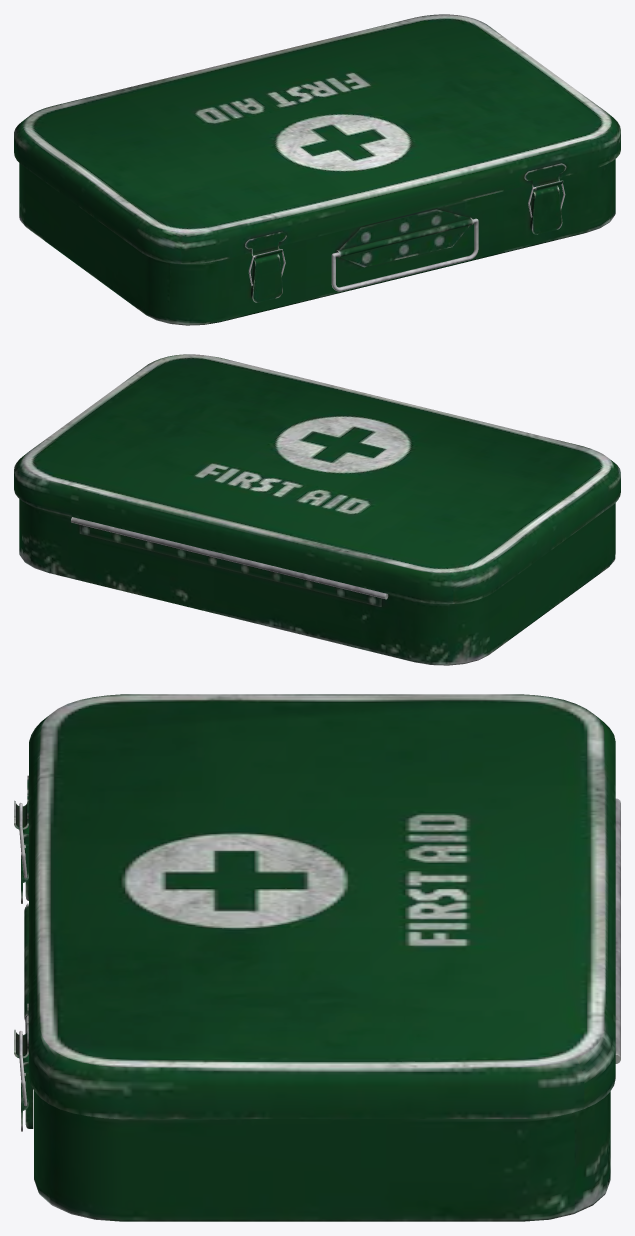
The model's file is medical_box.glb.
3 views of the same model, one above another, from view 1: azimuth 30°, elevation 25°; view 2: azimuth 150°, elevation 25°; view 3: azimuth 270°, elevation 25° (orthographic). The views are drawn at different scales.
Visible parts, largest first — view 1: medical_box_latch; view 2: medical_box_latch; view 3: medical_box_latch.
Part boxes in pixels (left/top/right/bottom): medical_box_latch: left=14, top=14, right=620, bottom=325; medical_box_latch: left=14, top=354, right=620, bottom=665; medical_box_latch: left=14, top=694, right=620, bottom=1221.
Bounding box in the file's own units: 0.5255 × 0.0975 × 0.3501.
Materials: 1 (1 with a texture image).
